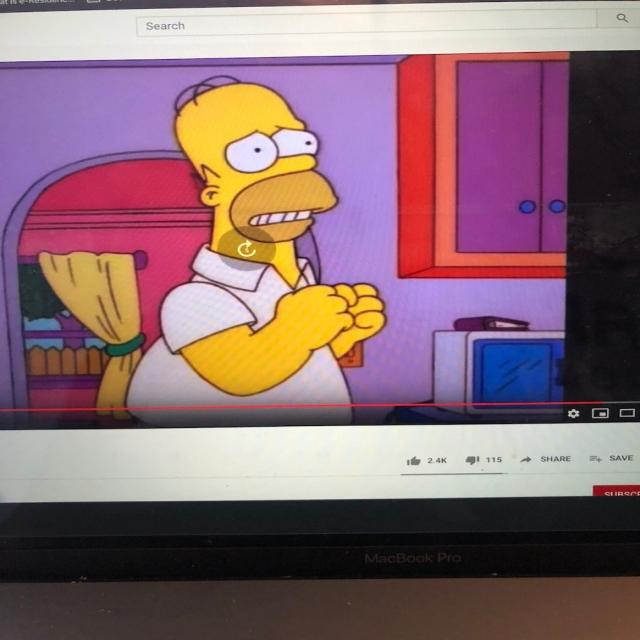Homer Simpson: (168, 71, 346, 285)
